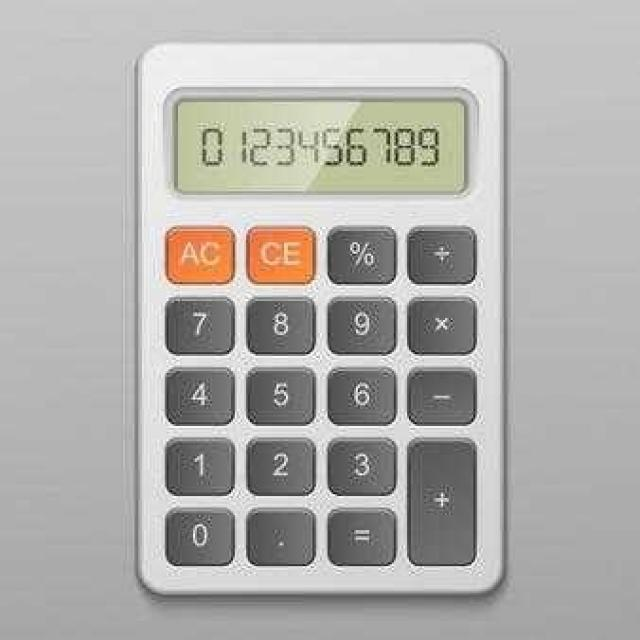Calculator: (134, 42, 506, 595)
